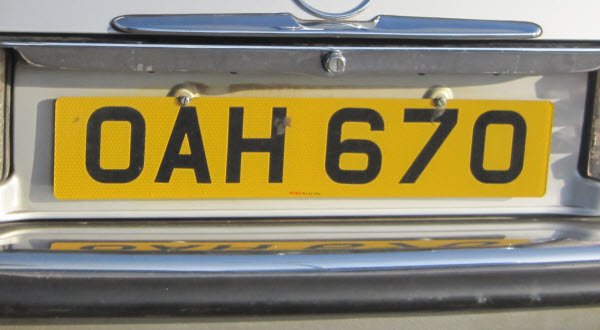license_plate: (52, 96, 553, 200)
